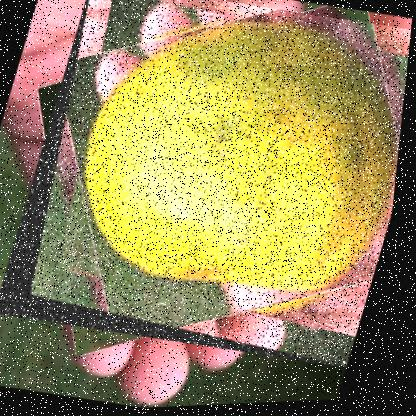orange: (0, 0, 415, 386)
